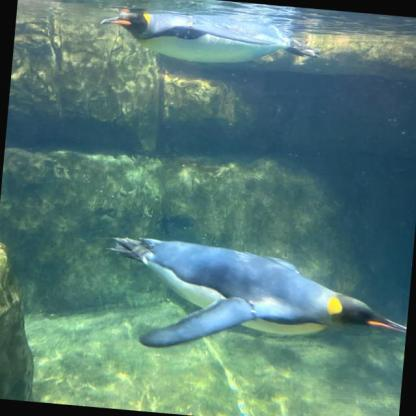penguin: (98, 234, 412, 369), (98, 6, 322, 73)
